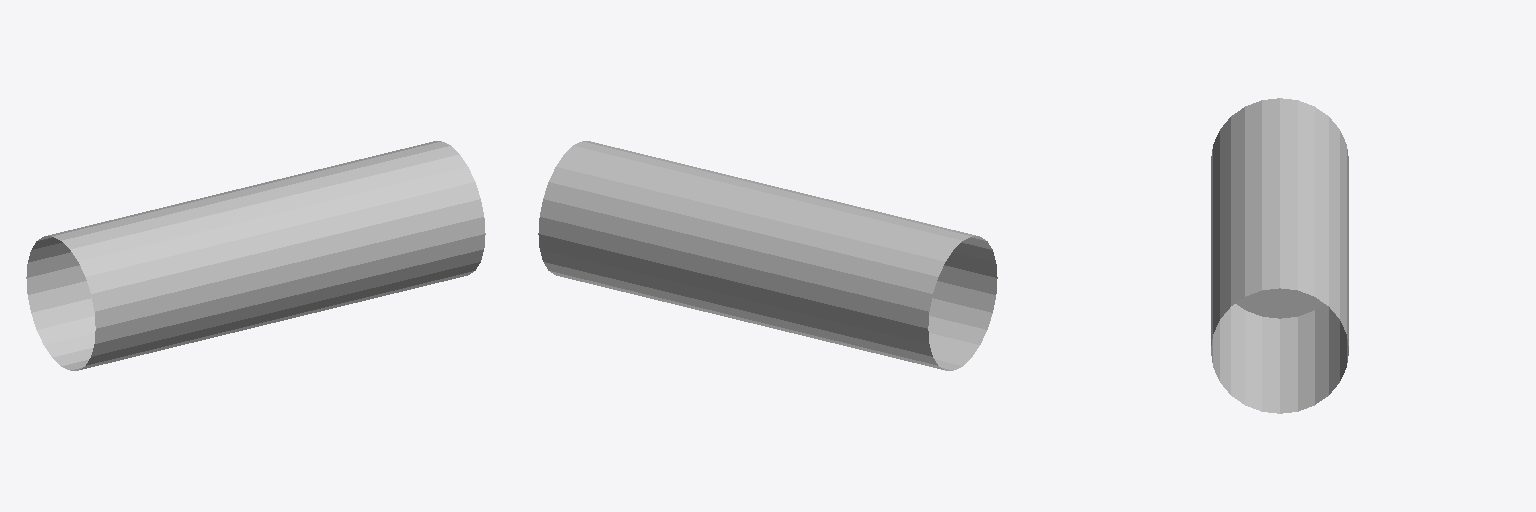
File: original-113.obj
The picture shows the model from 3 angles: view 1: azimuth 30°, elevation 25°; view 2: azimuth 150°, elevation 25°; view 3: azimuth 270°, elevation 25°; orthographic projection.
Parts seen in each view (by area): view 1: #ID724; view 2: #ID724; view 3: #ID724.
Boxes of the visible parts, x1=… form: #ID724: x1=26, y1=141, x2=485, y2=370; #ID724: x1=538, y1=141, x2=997, y2=370; #ID724: x1=1211, y1=98, x2=1348, y2=413.
Bounding box in the file's own units: 0.0196 × 0.006 × 0.006.